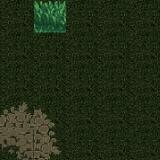Slow: (34, 1, 66, 33)
